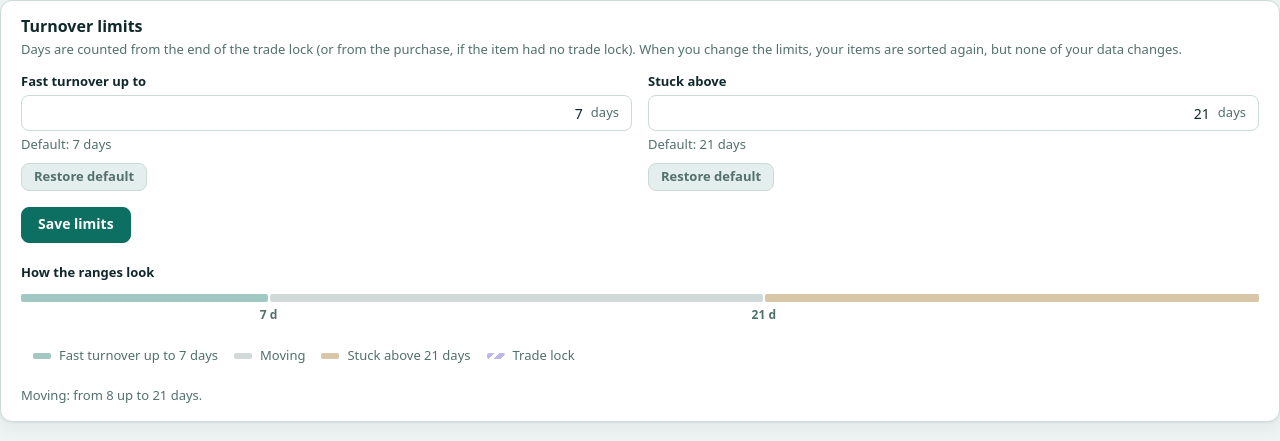
Scenario: AgingSettings › a régua das três faixas segue o que se digita
The image size is (1280, 441).
Expected: the element with test id "aging-scale" shows "7 d", [260,306,277,323]
Expected: the element with test id "aging-scale" shows "21 d", [752,306,776,323]
Replace the text in the field labelled "Fast turnover up to" with "3": (308, 113) [34,96,583,130]
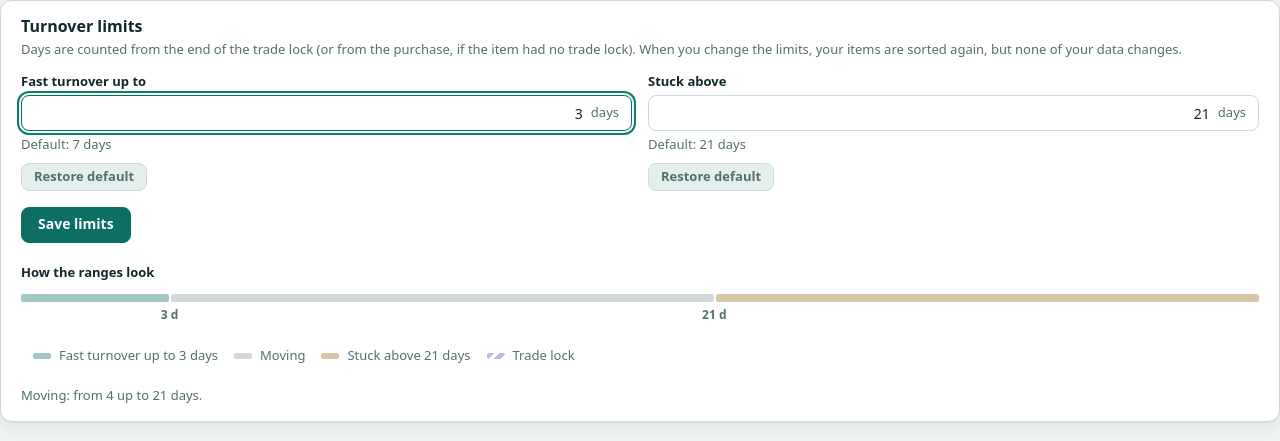
Expected: the element with test id "aging-scale" does not show "7 d", [21,263,1259,405]
Expected: the element with test id "aging-scale" shows "3 d", [161,306,178,323]
Expected: the text "Moving: from 4 up to 21 days." is shown, [21,386,202,404]
